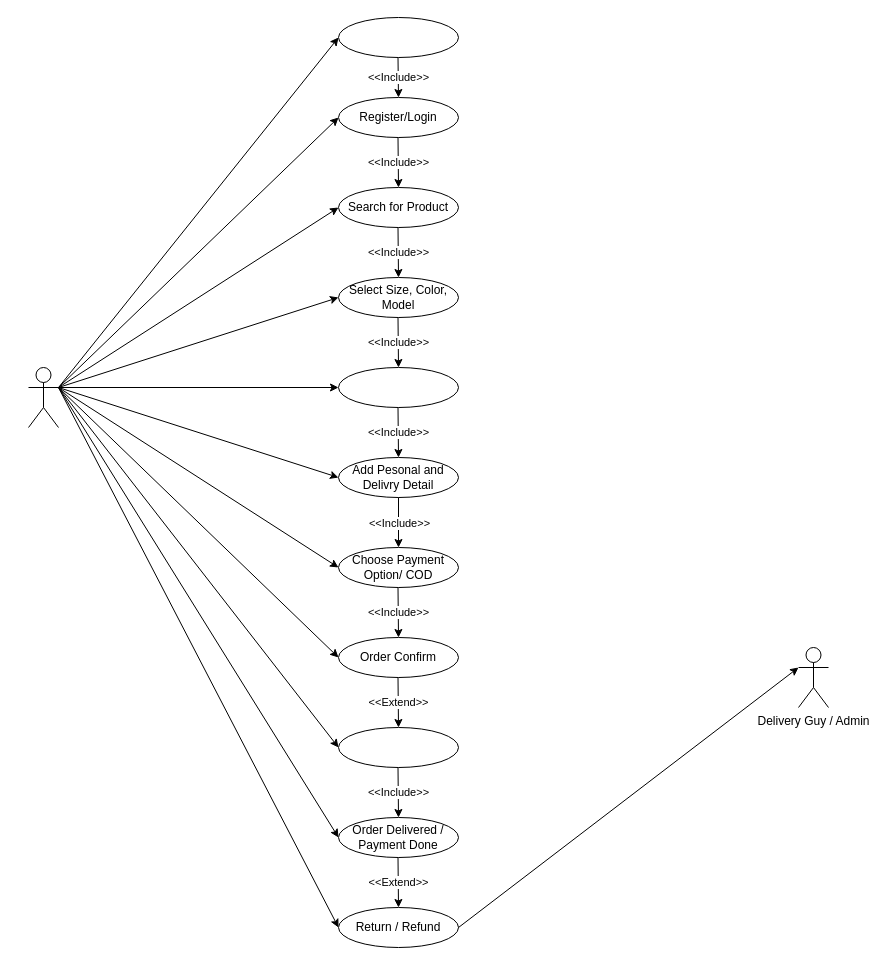
The diagram is 887 pixels wide and 965 high, and some of its shapes have lost their labels. The shapes that lost their labels are listed below. From the top down, each one's centre as x and y in pixels, then its label:
At pixel 398 37: "Search for Website".
At pixel 43 397: "Customer".
At pixel 398 387: "Proceed to Buy".
At pixel 398 747: "Order Track / Cancel Order".
